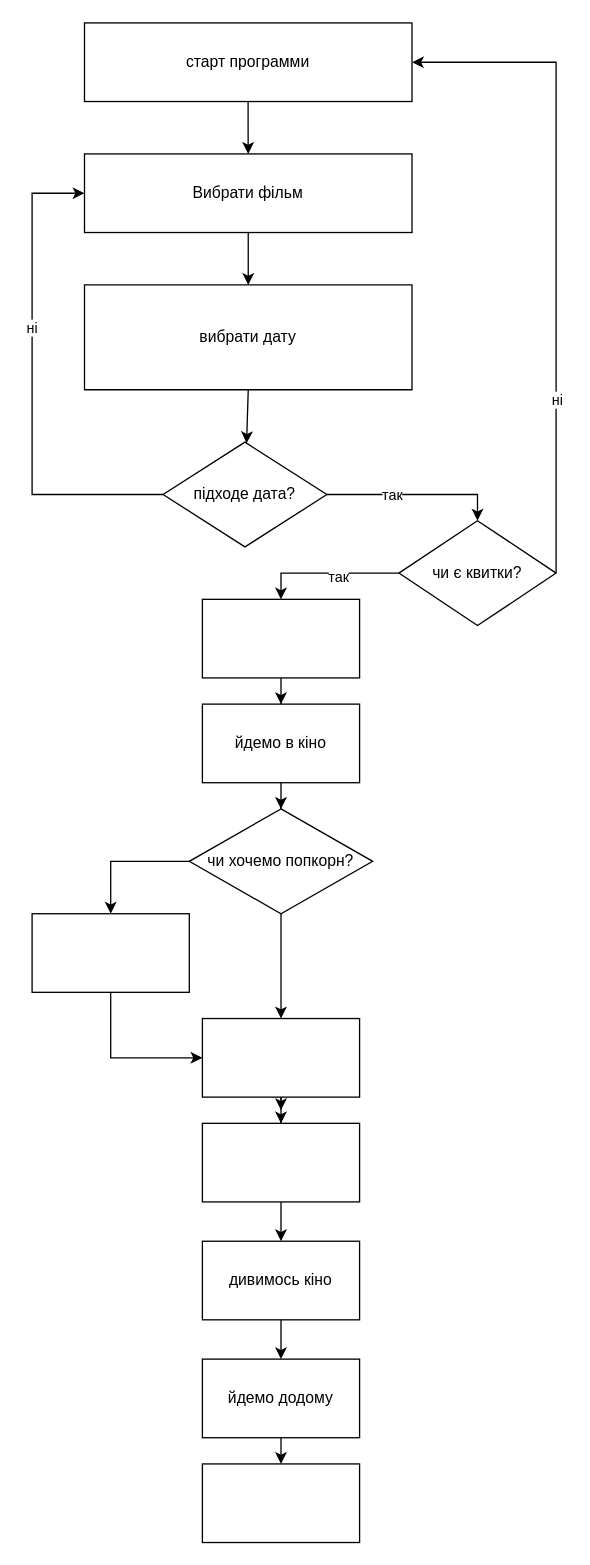
This 590x1565 diagram has some shape labels left out. Each missing label, with the centre of its shape:
"купуємо квитки" goes at (280,638).
"купуємо попкорн" goes at (110,952).
"кінець программи" goes at (280,1503).
"сідаємо" goes at (280,1162).
"шукаємо потібний зал" goes at (280,1057).
